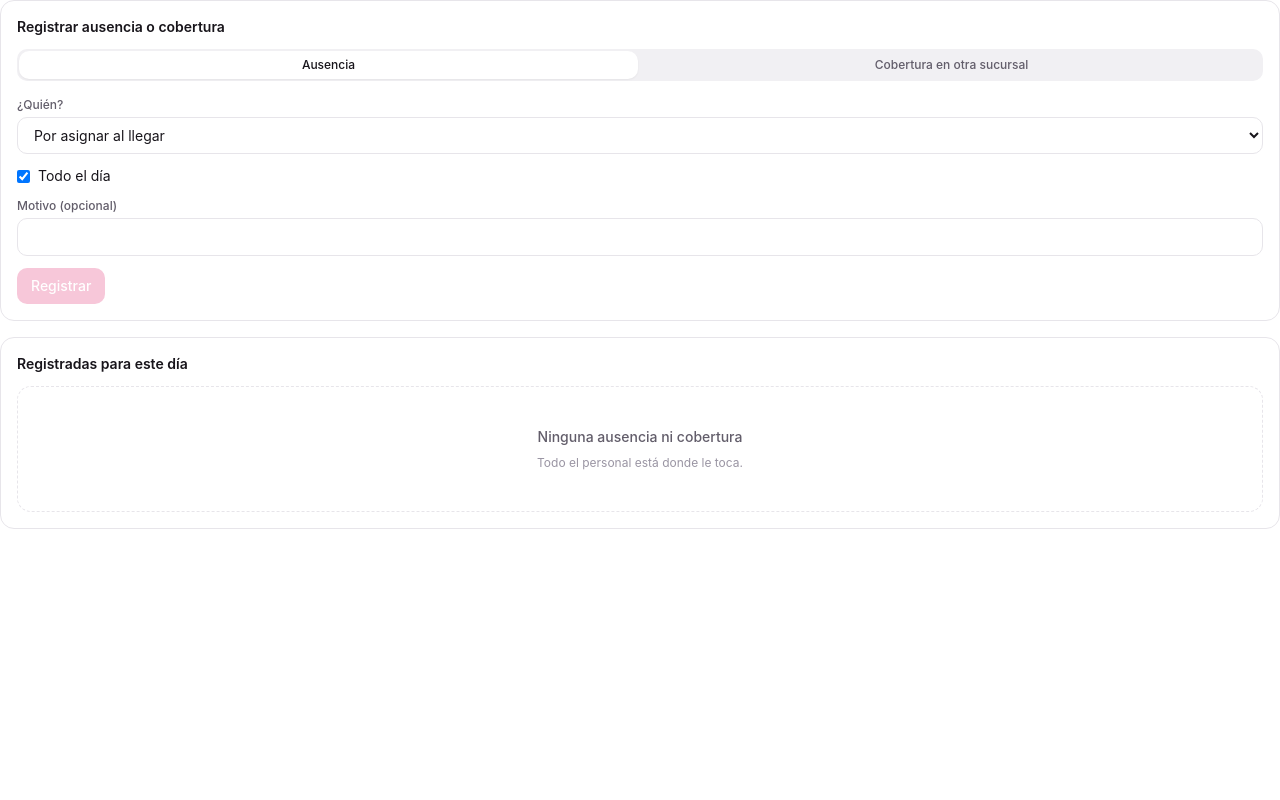
it: Ausencias — LA ALERTA DE `citasAfectadas` ES EL PRODUCTO DE LA PANTALLA › MUESTRA DESTACADAS las citas comprometidas, y dice que la ausencia SÍ se registró
Select "Ana" in the dropdown labelled "¿Quién?" at (640, 136), box [17,117,1263,154]
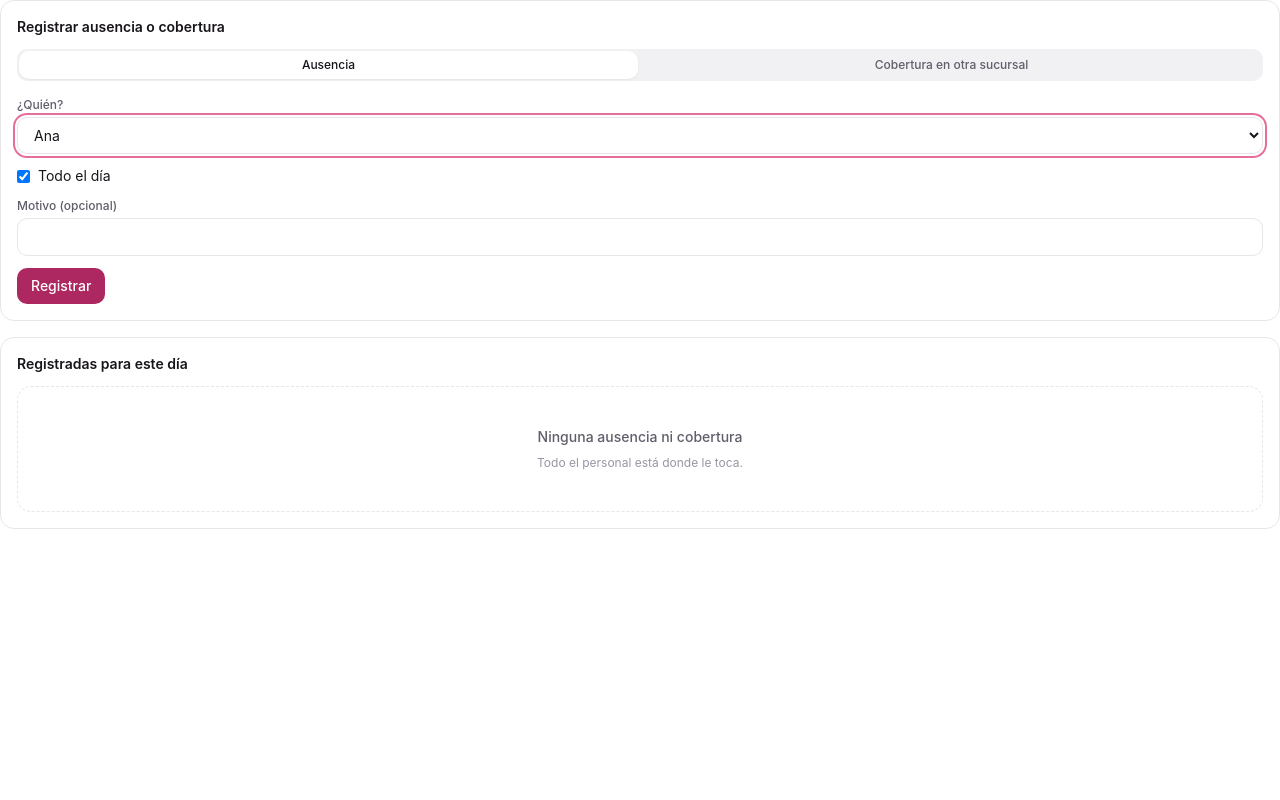
Click the button "Registrar".
click(61, 286)  # box [17,268,105,304]
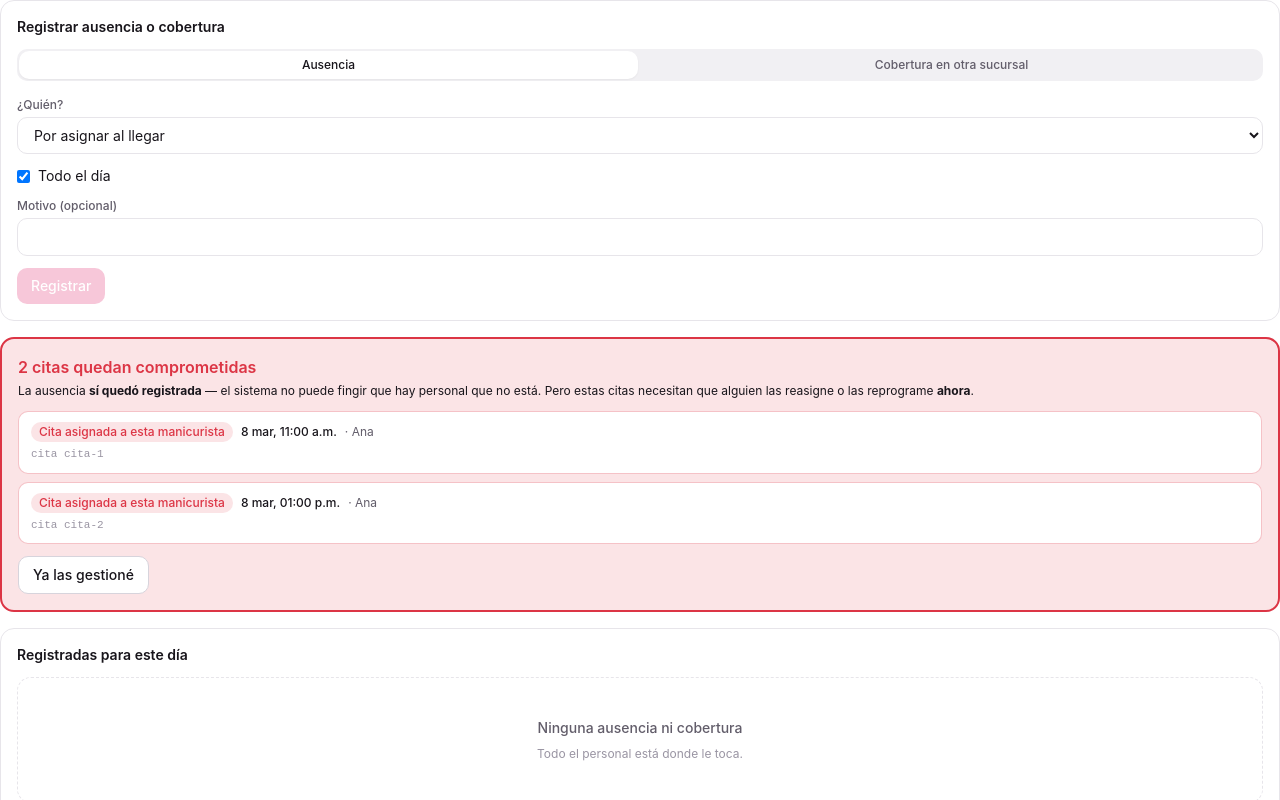
Check: the message shows "2 citas quedan comprometidas", box [0,337,1279,612]
Check: the message shows "sí quedó registrada", box [89,383,202,398]
Check: the message shows "el sistema no puede fingir que hay personal que no está", box [202,383,937,398]
